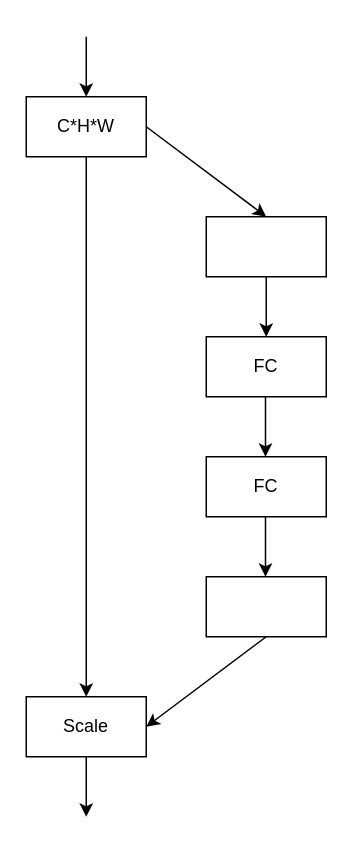
Image size: 353x855. Some labels were removed from this diagram. Each missing label, with the box of its shape:
Global pooling: (205, 215, 326, 277)
Sigmoid: (205, 575, 326, 637)
